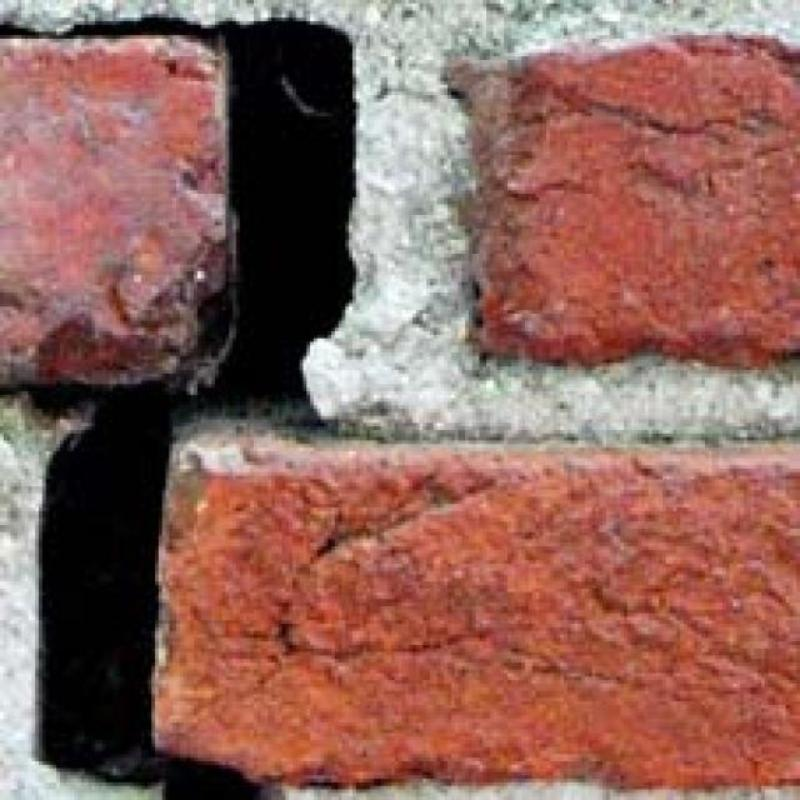crack: (1, 19, 355, 800)
